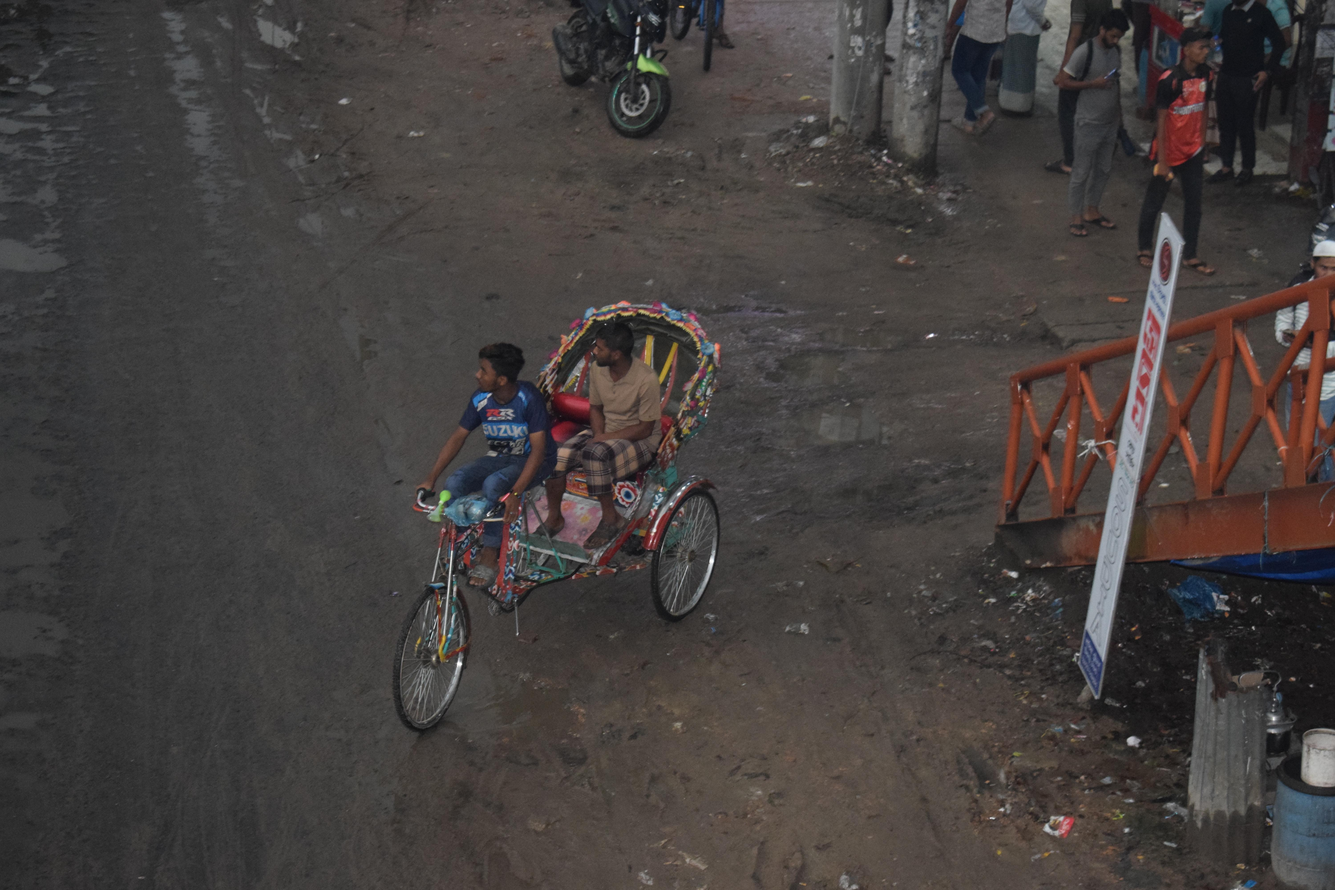Bike: (520, 0, 701, 181)
Car: (310, 274, 775, 779)
